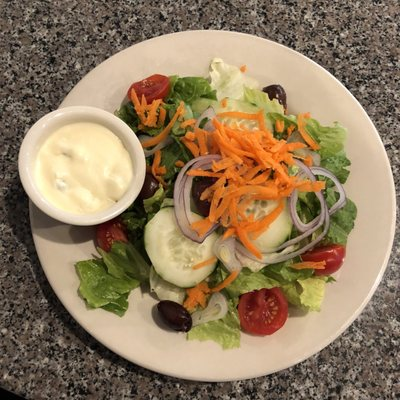sushi: (7, 25, 397, 398), (17, 105, 147, 227)
